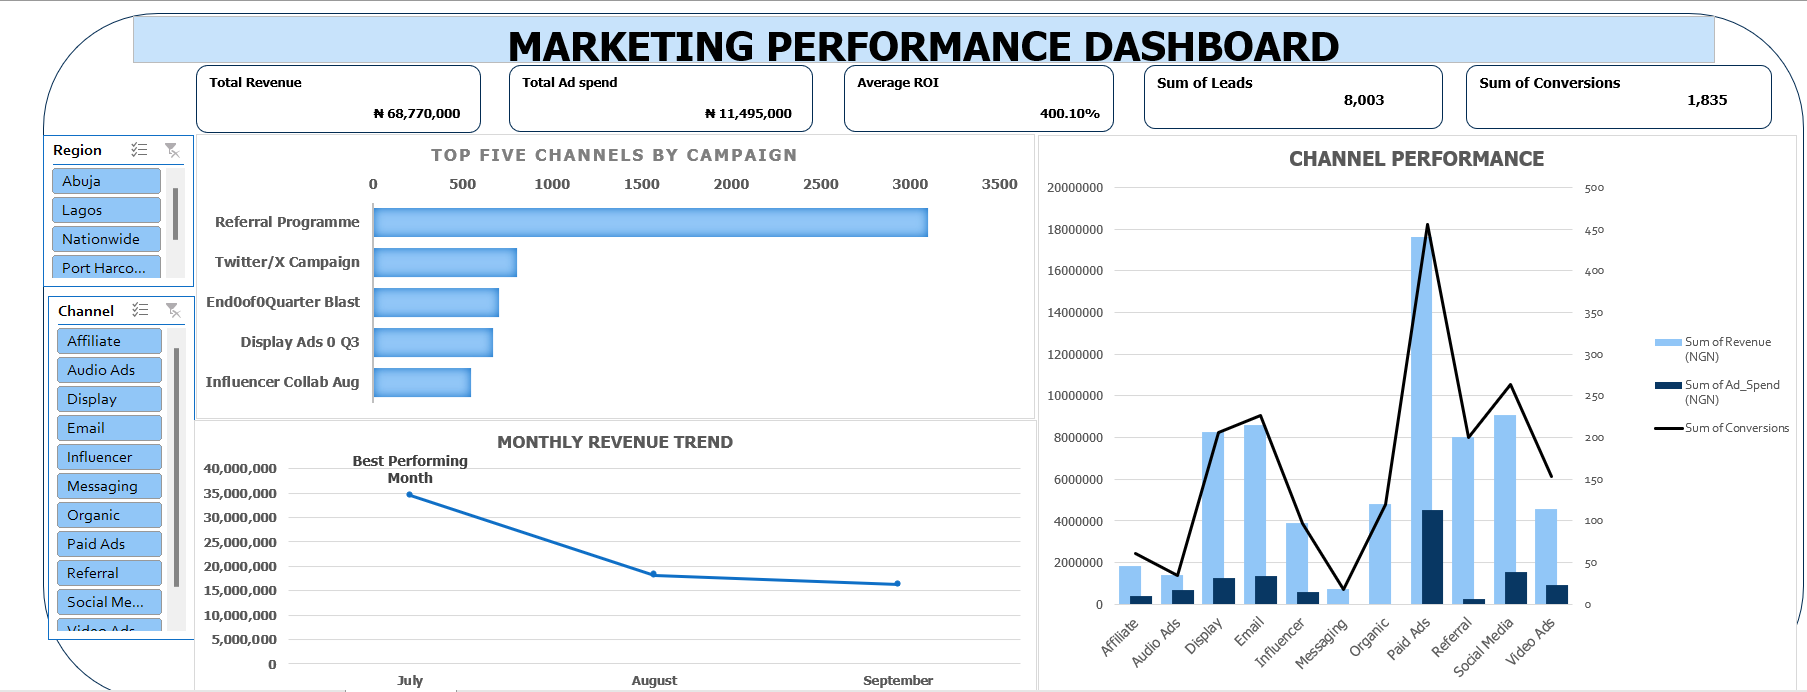

The page's visual inventory and layout, read from the dashboard file:
{"tool":"powerbi","page":{"name":"Portfolio dashboard","canvas":[1280,720],"ordinal":0},"visuals":[{"type":"lineChart","title":"Monthly Revenue Trend","fields":{"Category":["Cleaned Data.Start_Date.Variation.Date Hierarchy.Month"],"Y":["Sum(Cleaned Data.Revenue (NGN))"]},"box":[119.9,440.7,641.5,270.9],"z":0},{"type":"card","fields":{"Values":["Cleaned Data.Total Revenue"]},"box":[175.6,108.4,190.7,82.3],"z":1000},{"type":"card","fields":{"Values":["Cleaned Data.Total Ad Spend"]},"box":[390.7,108.4,189.4,82.3],"z":2000},{"type":"card","fields":{"Values":["Cleaned Data.Total Conversions"]},"box":[818.2,108.4,192.1,82.3],"z":3000},{"type":"card","fields":{"Values":["Cleaned Data.Total Leads"]},"box":[1034.7,108.4,189.4,82.3],"z":4000},{"type":"clusteredBarChart","title":"Top 5 Campaigns by ROI","fields":{"Category":["Cleaned Data.Campaign_Name"],"Y":["Sum(Cleaned Data.ROI (%))"]},"box":[119.9,190,641.5,241.2],"z":5000},{"type":"clusteredColumnChart","title":"Revenue by Marketing Channel","fields":{"Category":["Cleaned Data.Channel"],"Y":["Cleaned Data.Total Revenue"]},"box":[774.9,190,493.2,529.6],"z":6000},{"type":"listSlicer","fields":{"Values":["Cleaned Data.Region"]},"box":[0,107.8,103.8,218.3],"z":7000},{"type":"listSlicer","fields":{"Values":["Cleaned Data.Channel"]},"box":[0,354.4,103.8,357.1],"z":8000},{"type":"textbox","box":[0,0,1280.3,103.8],"z":9000},{"type":"card","fields":{"Values":["Cleaned Data.Average ROI (%)"]},"box":[604.5,108.4,189.4,82.3],"z":10000}]}

Visuals, with their boxes on the page's 1280x720 design canvas (x1, y1, x2, y2). These are canvas units, not pixel positions in the 1807x692 screenshot, which may show the page scaled, cropped or inside an application window:
"Monthly Revenue Trend" lineChart: (120,441,761,712)
card - Cleaned Data.Total Revenue: (176,108,366,191)
card - Cleaned Data.Total Ad Spend: (391,108,580,191)
card - Cleaned Data.Total Conversions: (818,108,1010,191)
card - Cleaned Data.Total Leads: (1035,108,1224,191)
"Top 5 Campaigns by ROI" clusteredBarChart: (120,190,761,431)
"Revenue by Marketing Channel" clusteredColumnChart: (775,190,1268,720)
listSlicer - Cleaned Data.Region: (0,108,104,326)
listSlicer - Cleaned Data.Channel: (0,354,104,712)
textbox: (0,0,1280,104)
card - Cleaned Data.Average ROI (%): (604,108,794,191)
